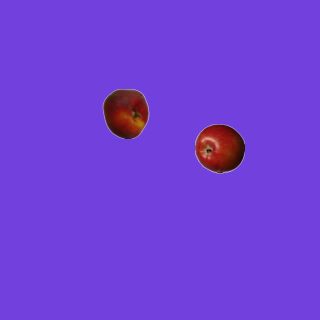Apple Braeburn: (194, 123, 244, 173)
Nectarine Flat: (100, 88, 150, 138)
